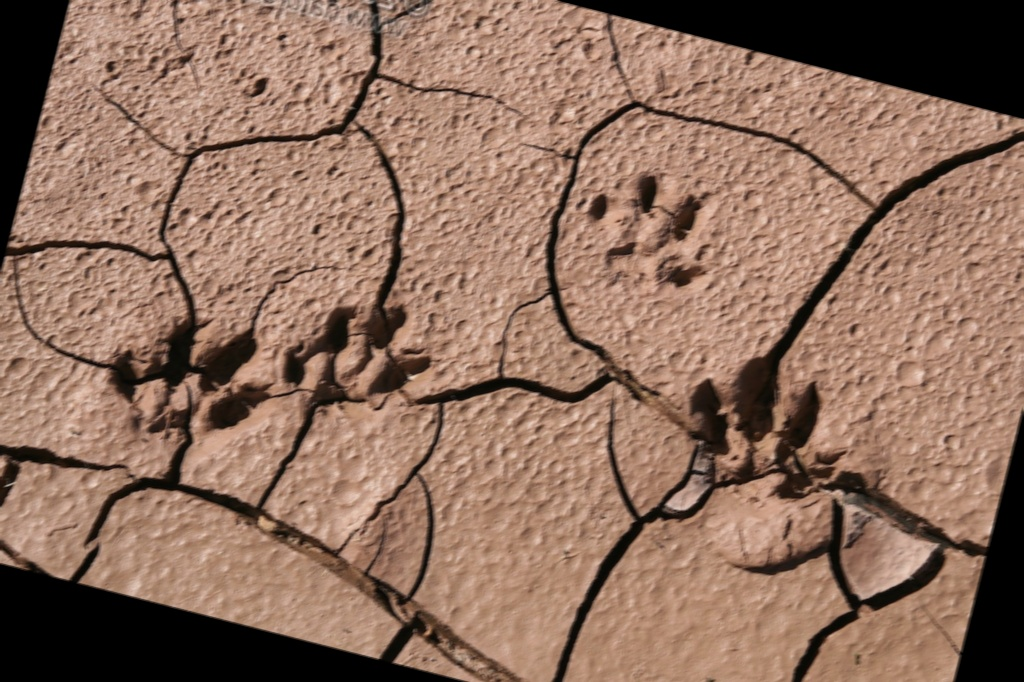lynx: (67, 217, 483, 536), (639, 320, 922, 607), (543, 143, 736, 325)
